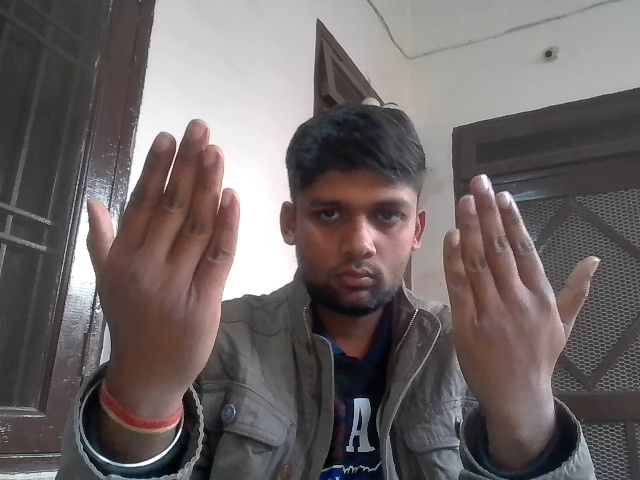ThankYou: (73, 114, 620, 430)
